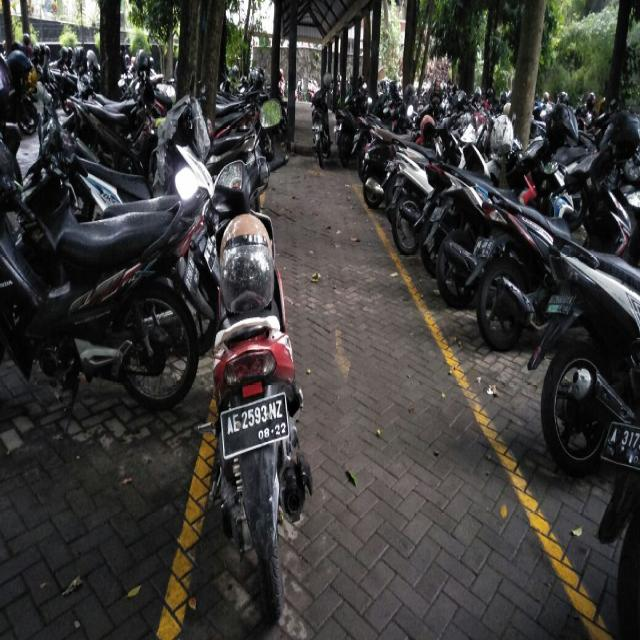plate: (219, 391, 290, 456)
